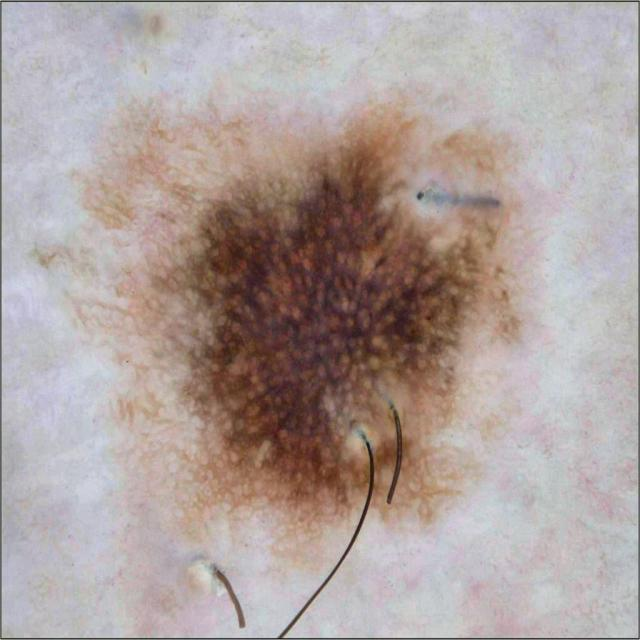Melanocytic-Nevi-NV-: (38, 102, 540, 565)
